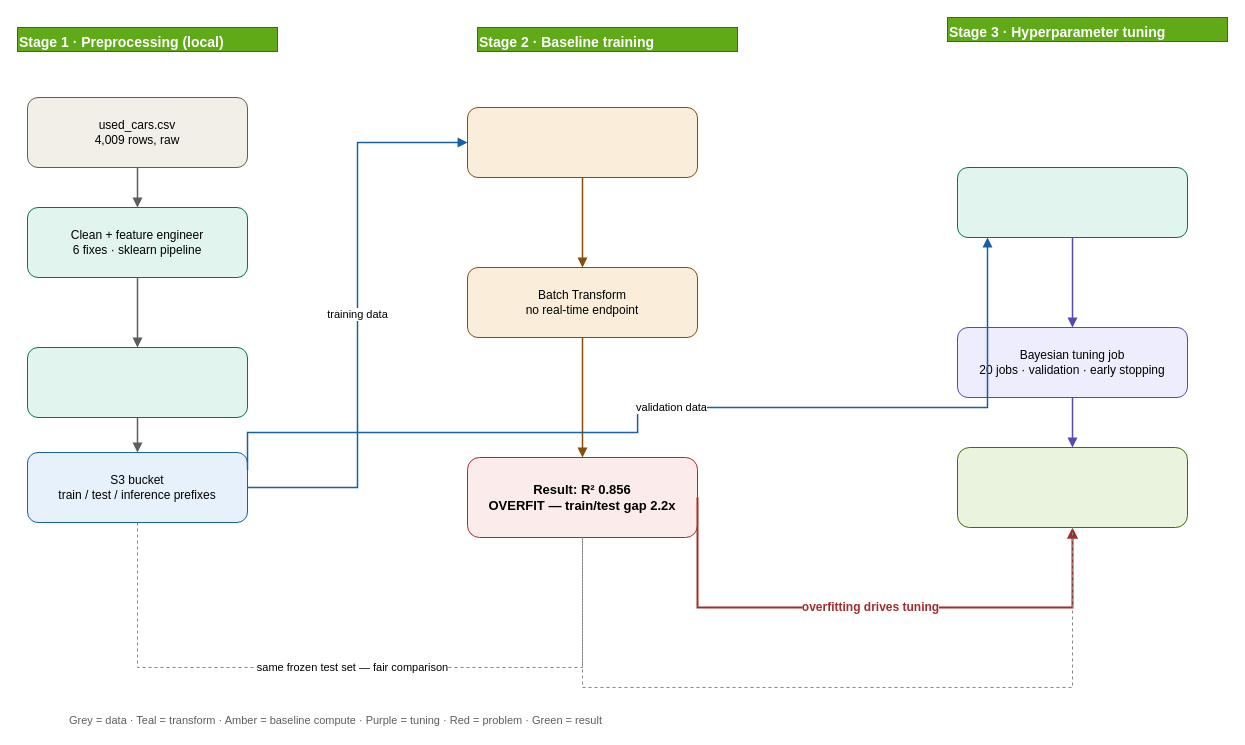
This 1245x745 diagram has some shape labels left out. The centre of each missing label's shape, as x and y in pixels:
"Re-split · carve validation set test set stays frozen" belongs at point (1072, 202).
"Result: R² 0.863 ROBUST — depth 3 · less overfit" belongs at point (1072, 487).
"Split 80 / 20 fit preprocessor on train only" belongs at point (137, 382).
"XGBoost · default hyperparameters built-in · train channel" belongs at point (582, 142).
